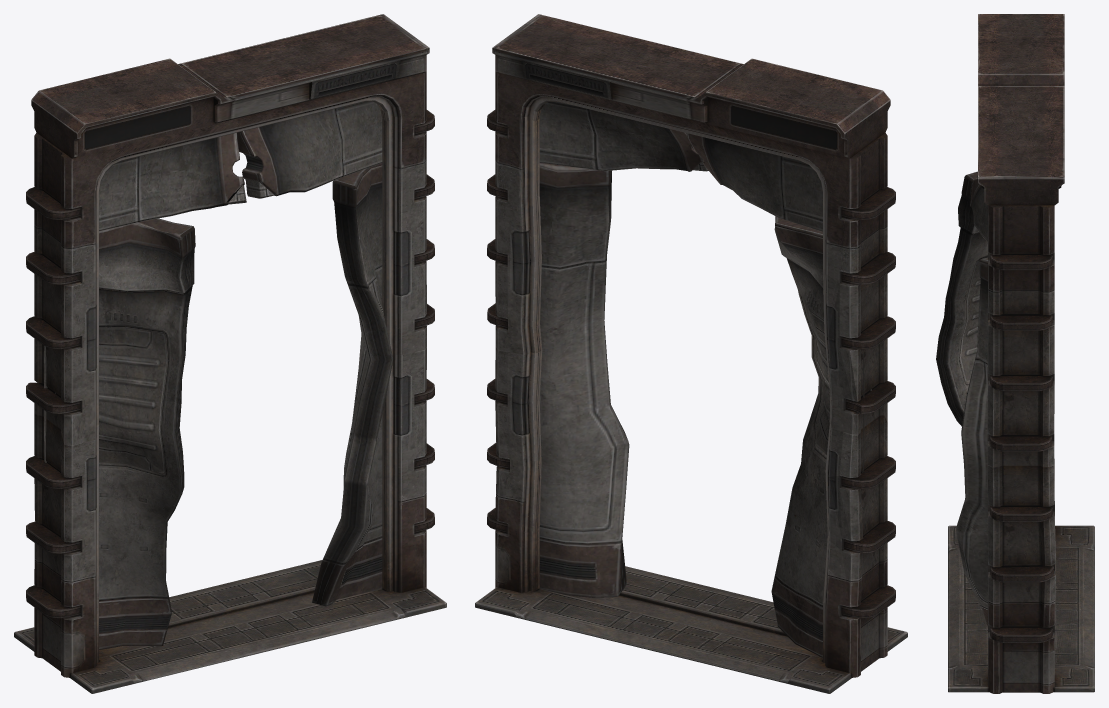
The model's file is 01_01_door_robot_storage_smashed.dae.
3 renders of one model, left to right at view 1: azimuth 30°, elevation 25°; view 2: azimuth 150°, elevation 25°; view 3: azimuth 270°, elevation 25°, orthographic. The views are drawn at different scales.
Visible parts, largest first — view 1: frame, part_large, part_small, part_top_left1, part_top_left; view 2: frame, part_small, part_large, part_top_left1, part_top_left; view 3: frame, part_small, part_large, part_top_left1.
Part boxes in pixels (x1=…): frame: x1=14, y1=14, x2=446, y2=693; part_large: x1=44, y1=218, x2=195, y2=649; part_small: x1=312, y1=163, x2=393, y2=606; part_top_left1: x1=237, y1=101, x2=382, y2=198; part_top_left: x1=99, y1=132, x2=246, y2=231; frame: x1=475, y1=14, x2=907, y2=693; part_small: x1=539, y1=162, x2=629, y2=597; part_large: x1=771, y1=216, x2=871, y2=657; part_top_left1: x1=539, y1=101, x2=708, y2=171; part_top_left: x1=686, y1=133, x2=822, y2=231; frame: x1=948, y1=14, x2=1094, y2=693; part_small: x1=956, y1=257, x2=987, y2=626; part_large: x1=936, y1=171, x2=987, y2=426; part_top_left1: x1=970, y1=177, x2=987, y2=241.
Bounding box in the file's own units: 329 × 450 × 125.
